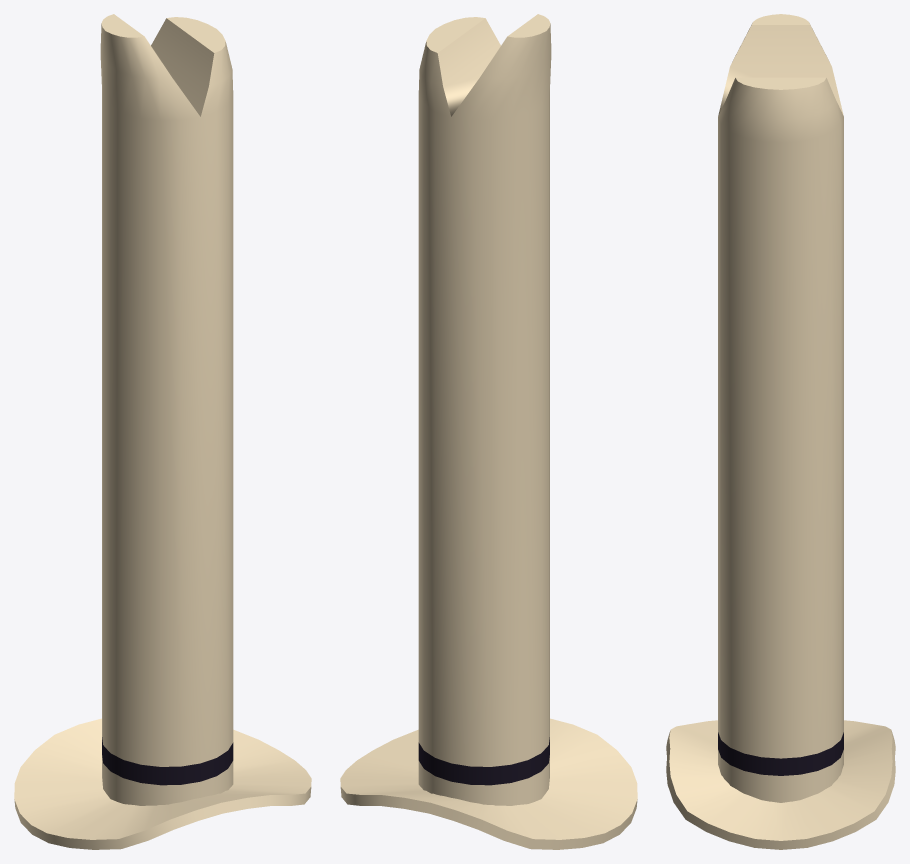
The model's file is dimmadomehat.fbx.
The picture shows the model from 3 angles, left to right: view 1: azimuth 30°, elevation 25°; view 2: azimuth 150°, elevation 25°; view 3: azimuth 270°, elevation 25°; orthographic projection. The views are drawn at different scales.
Parts seen in each view (by area): view 1: dimmadome; view 2: dimmadome; view 3: dimmadome.
Boxes of the visible parts, left/top/right/bottom form: dimmadome: left=14, top=14, right=311, bottom=849; dimmadome: left=340, top=14, right=637, bottom=849; dimmadome: left=666, top=14, right=895, bottom=849.
Size of the model in its own units: 103 by 294 by 81.71.
